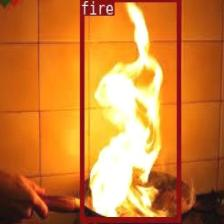fire: (80, 0, 180, 222)
